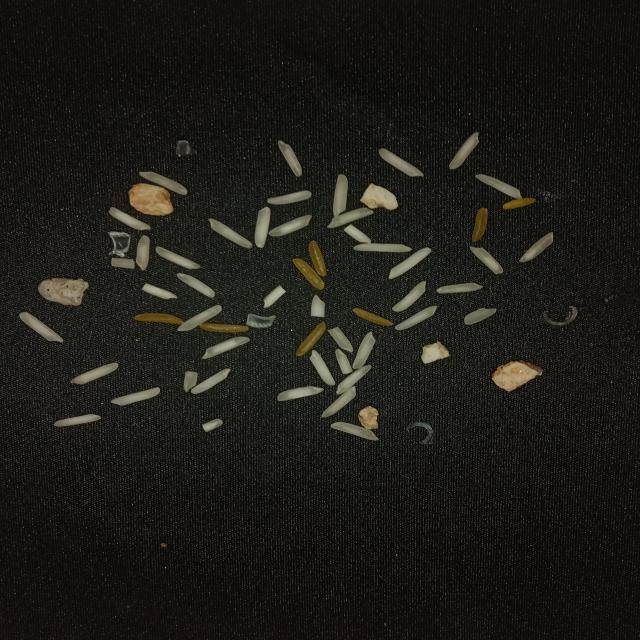Broken: (292, 258, 324, 290), (296, 322, 326, 356), (352, 308, 393, 326), (308, 240, 327, 277), (328, 327, 354, 352), (142, 283, 178, 300), (134, 312, 185, 324), (472, 208, 488, 242), (344, 224, 371, 244), (263, 285, 286, 308), (199, 323, 249, 333), (335, 349, 353, 374), (310, 294, 326, 318), (502, 198, 536, 209), (183, 371, 198, 392), (202, 419, 223, 432), (111, 258, 135, 268)
Full: (18, 312, 64, 343), (388, 248, 432, 280), (209, 218, 252, 248), (378, 149, 424, 177), (476, 173, 522, 200), (448, 132, 480, 170), (177, 305, 222, 331), (139, 171, 187, 195), (201, 336, 251, 359), (321, 386, 356, 418), (392, 281, 427, 312), (336, 365, 372, 395), (156, 246, 200, 270), (70, 362, 118, 384), (519, 232, 553, 262), (268, 214, 312, 237), (395, 306, 437, 330), (110, 386, 160, 406), (191, 368, 231, 393), (108, 207, 151, 230), (176, 273, 215, 298), (309, 350, 336, 386), (327, 208, 374, 228), (330, 422, 379, 441), (470, 246, 503, 274), (278, 140, 302, 177), (352, 332, 376, 369), (277, 386, 324, 401), (333, 174, 348, 219), (267, 190, 312, 205), (53, 413, 101, 427), (255, 206, 271, 248), (353, 243, 412, 253), (464, 308, 497, 324), (436, 282, 484, 293), (136, 235, 150, 271)
